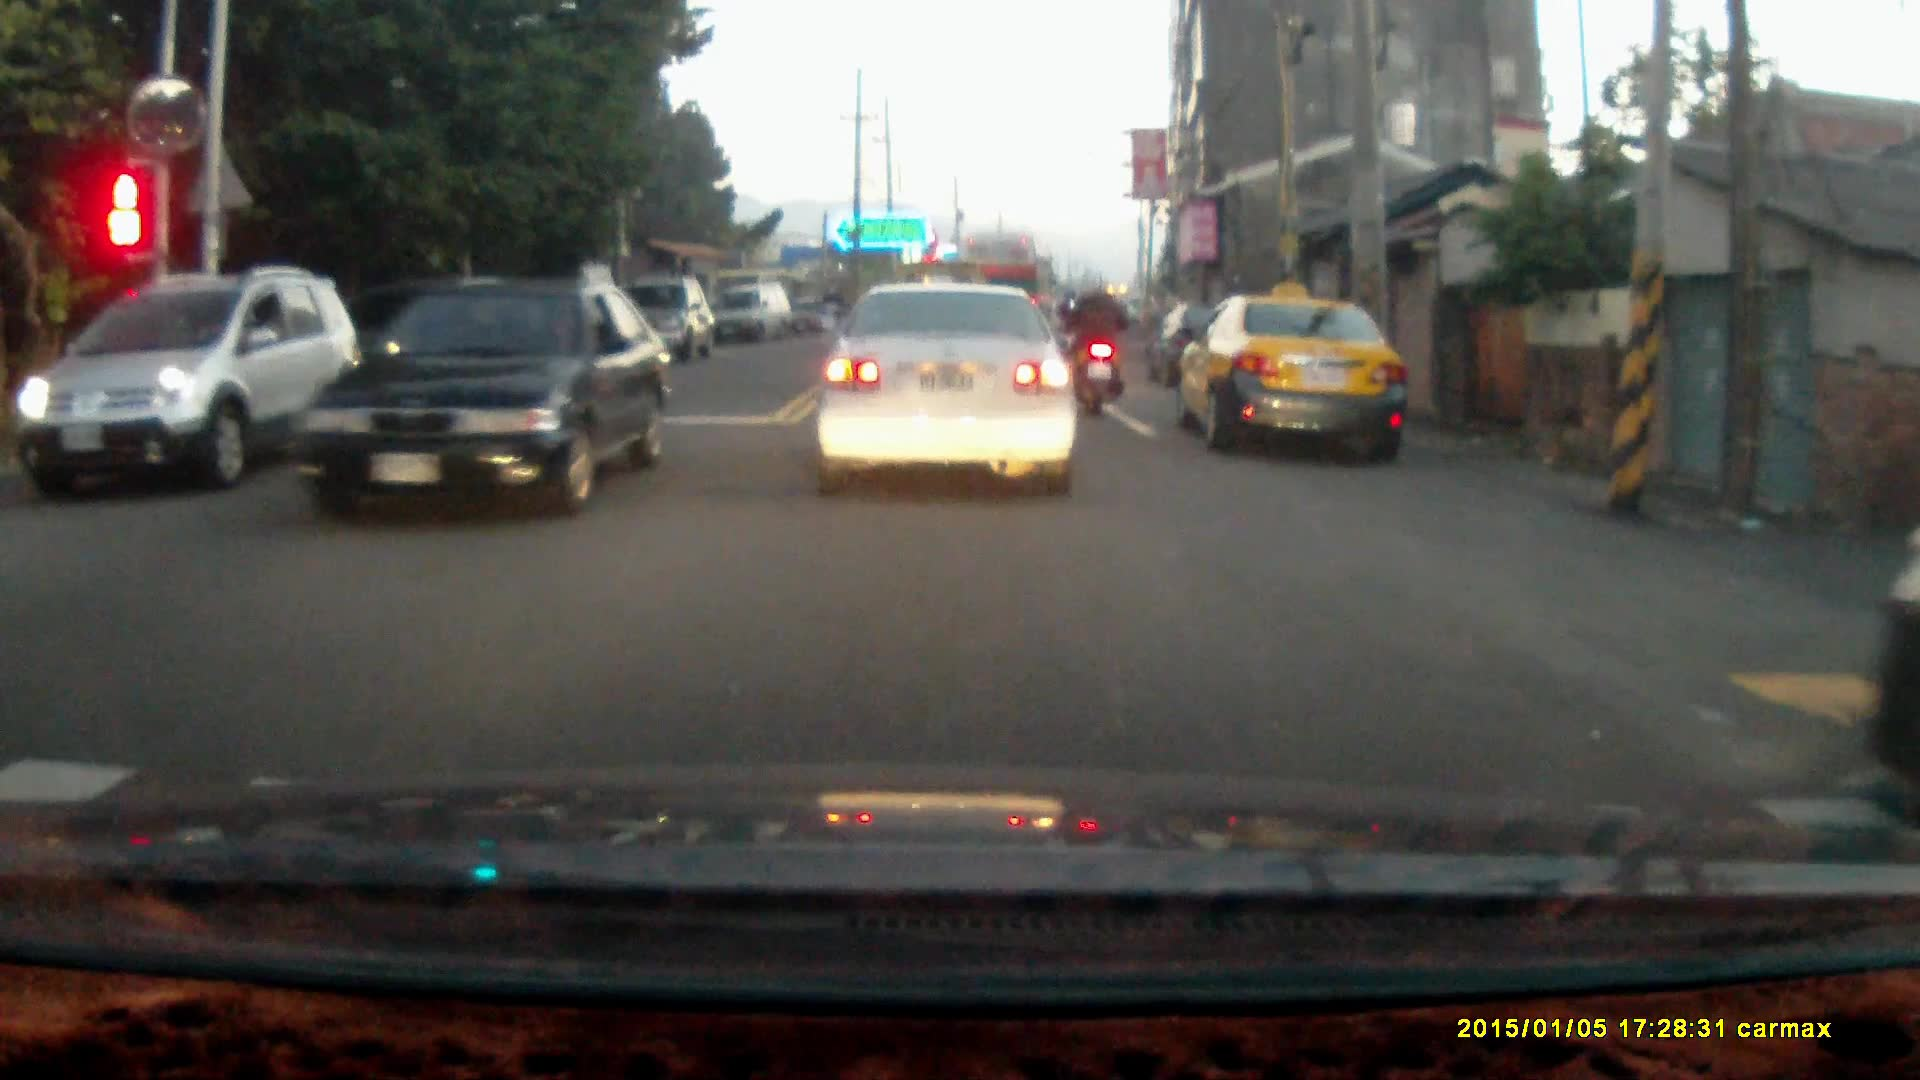rider: (1065, 269, 1130, 416), (811, 279, 844, 347)
vehicle: (277, 283, 663, 524), (23, 267, 352, 495), (815, 279, 1086, 497), (1183, 296, 1410, 459), (621, 271, 713, 367), (719, 287, 794, 348)
